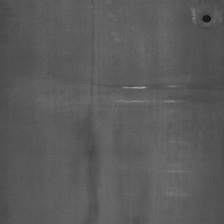punching_hole: (87, 6, 98, 219), (202, 12, 212, 26)
